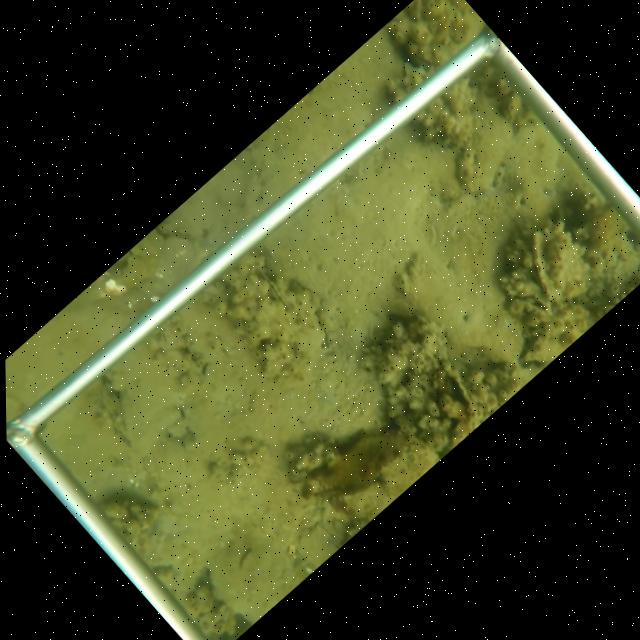Oyster-Closed: (531, 219, 591, 309)
